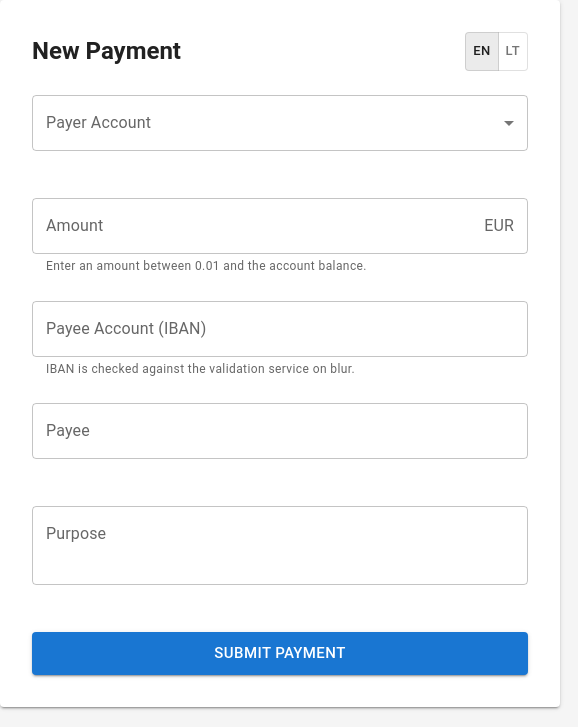
Test: PaymentForm › re-validates the amount against the newly selected account's balance
The image size is (578, 727).
Click the dropdown named "Payer Account": (280, 123) x1=32 y1=95 x2=528 y2=151
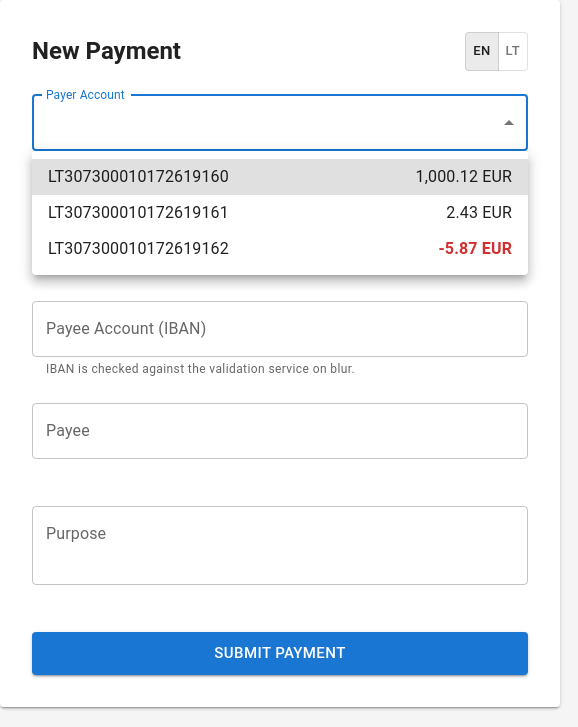
Click the option "LT307300010172619161 2.43 EUR": (138, 212) x1=48 y1=203 x2=512 y2=222
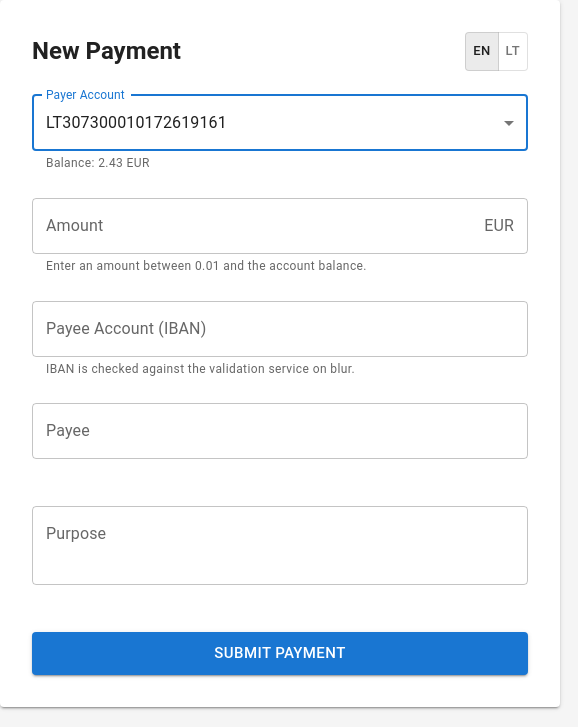
In the field labelled "Amount": (254, 226) x1=32 y1=198 x2=476 y2=254, type "10"
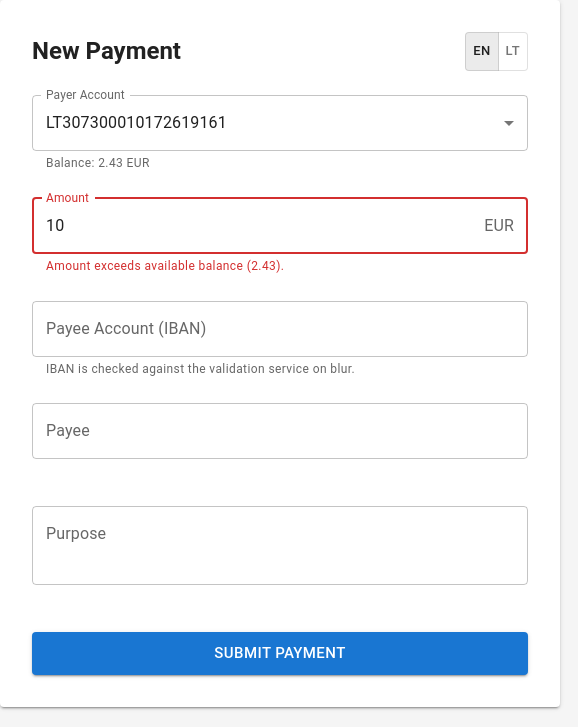
Press Tab
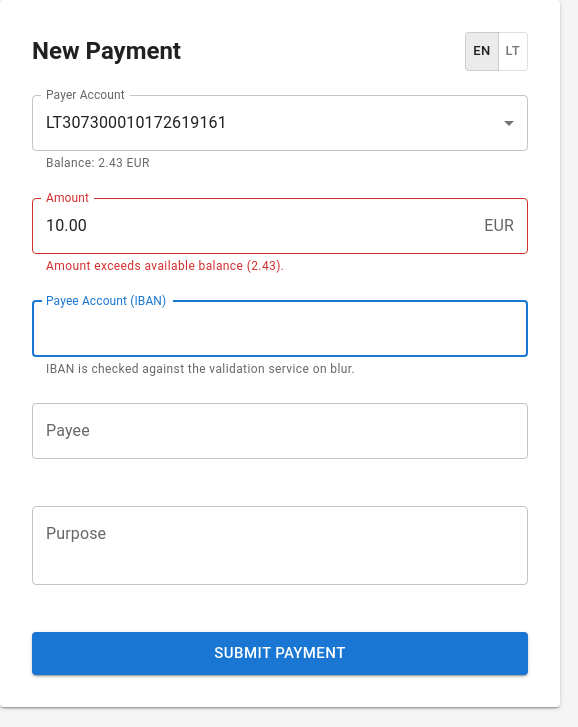
Now the text "Amount exceeds available balance (2.43)." is shown, box x1=46 y1=259 x2=284 y2=273
Click the dropdown named "Payer Account": (136, 123) x1=46 y1=113 x2=227 y2=132
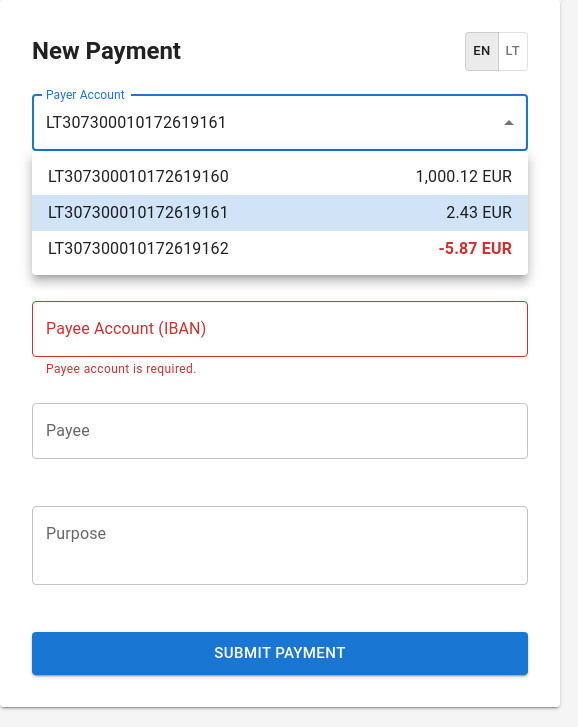
Click the option "LT307300010172619160 1,000.12 EUR": (138, 176) x1=48 y1=167 x2=512 y2=186
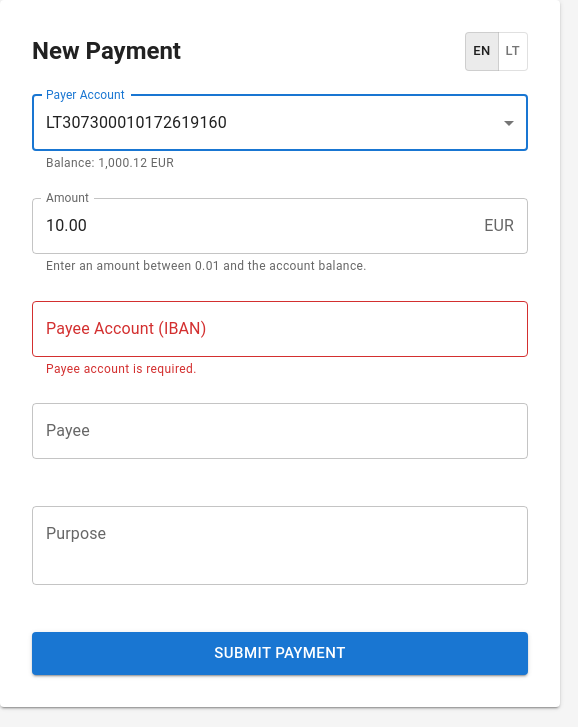
Now the text "Amount exceeds available balance" is gone
